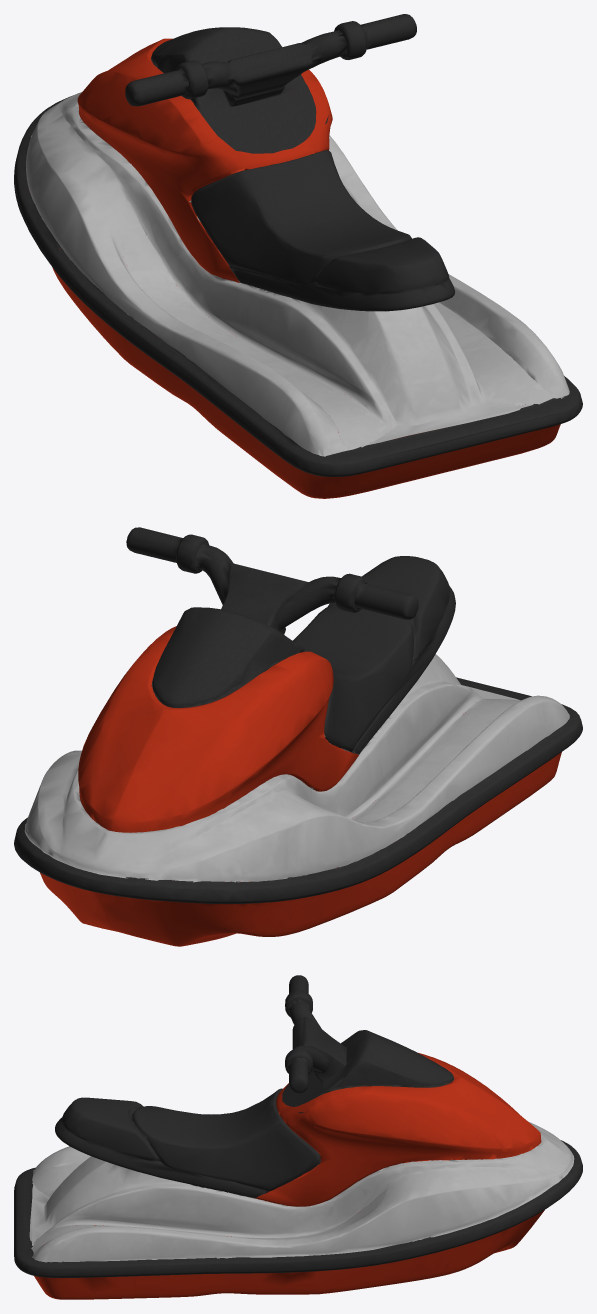
Rendered from jetski-low.glb.
3 renders of one model, top to bottom at view 1: azimuth 30°, elevation 25°; view 2: azimuth 150°, elevation 25°; view 3: azimuth 270°, elevation 25°, orthographic. The views are drawn at different scales.
Visible parts, largest first — view 1: Body, HandlebarMesh; view 2: Body, HandlebarMesh; view 3: Body, HandlebarMesh.
Boxes of the visible parts, box(x1,y1,x2,y2) form: Body: box(14, 27, 582, 498); HandlebarMesh: box(125, 14, 416, 114); Body: box(14, 556, 582, 946); HandlebarMesh: box(126, 527, 418, 655); Body: box(14, 1030, 582, 1299); HandlebarMesh: box(285, 975, 348, 1093).
Bounding box in the file's own units: 1.24 × 1.21 × 2.68.
7 materials, 7 textured.
